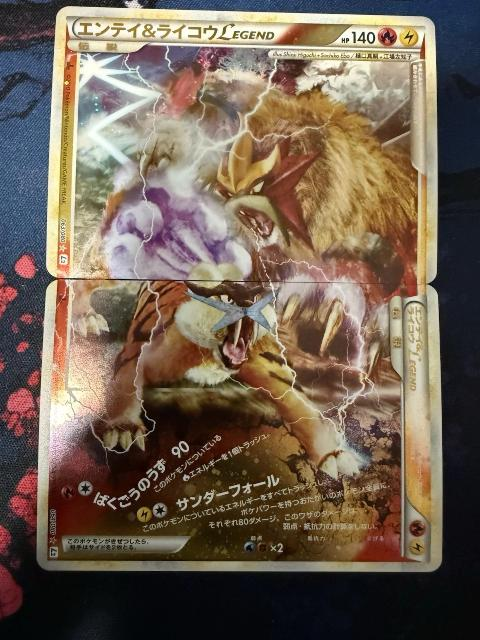Card: (34, 279, 446, 574), (44, 3, 441, 286)
Name: (71, 15, 281, 47), (401, 299, 428, 458)
